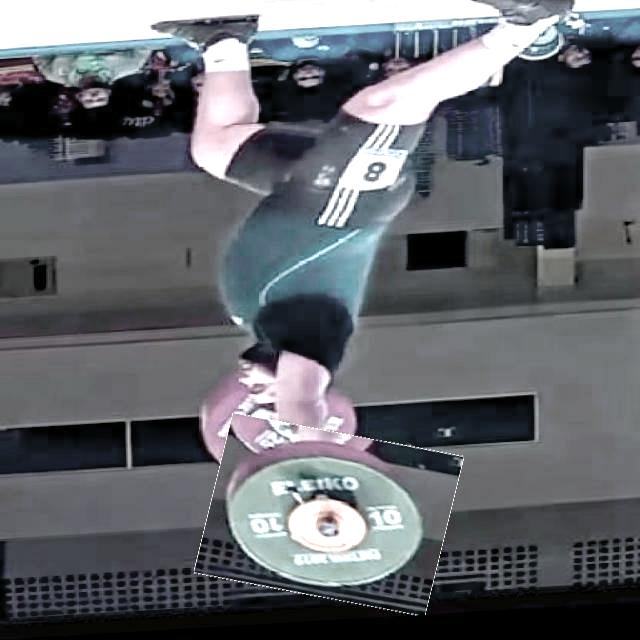barbell: (202, 420, 457, 619)
